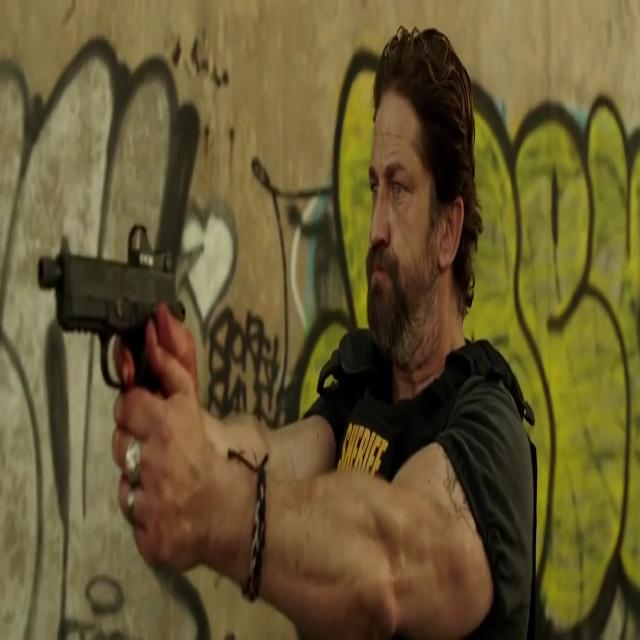Weapon: (36, 215, 192, 446)
